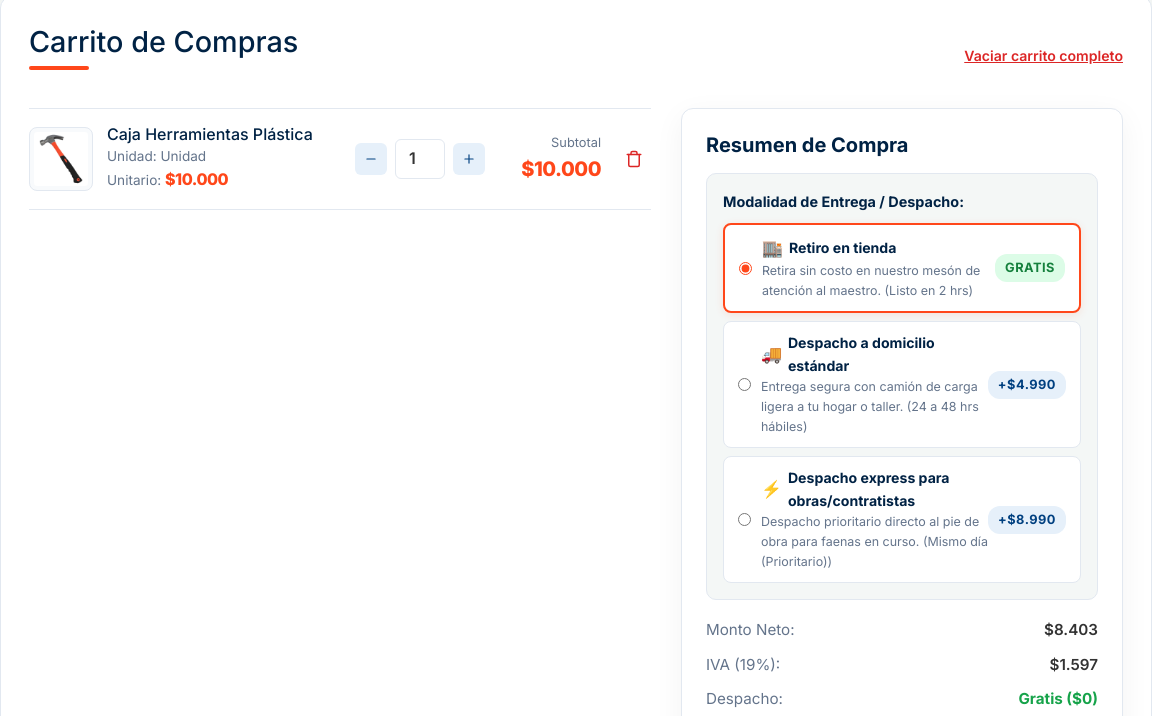
Test: Nuevas Funcionalidades: Control de Stock, Calculadora de Materiales y Despacho › debe actualizar el total a pagar en tiempo real al seleccionar despacho estándar o express
This screenshot has width=1152, height=716.
Check: the heading "Resumen de Compra" is shown, box [706,132,908,156]
Check: the text "$10.000" next to "Unitario:" is shown, box [165,170,228,190]
Click the text "Despacho a domicilio estándar".
click(861, 354)  # box [788,334,935,374]
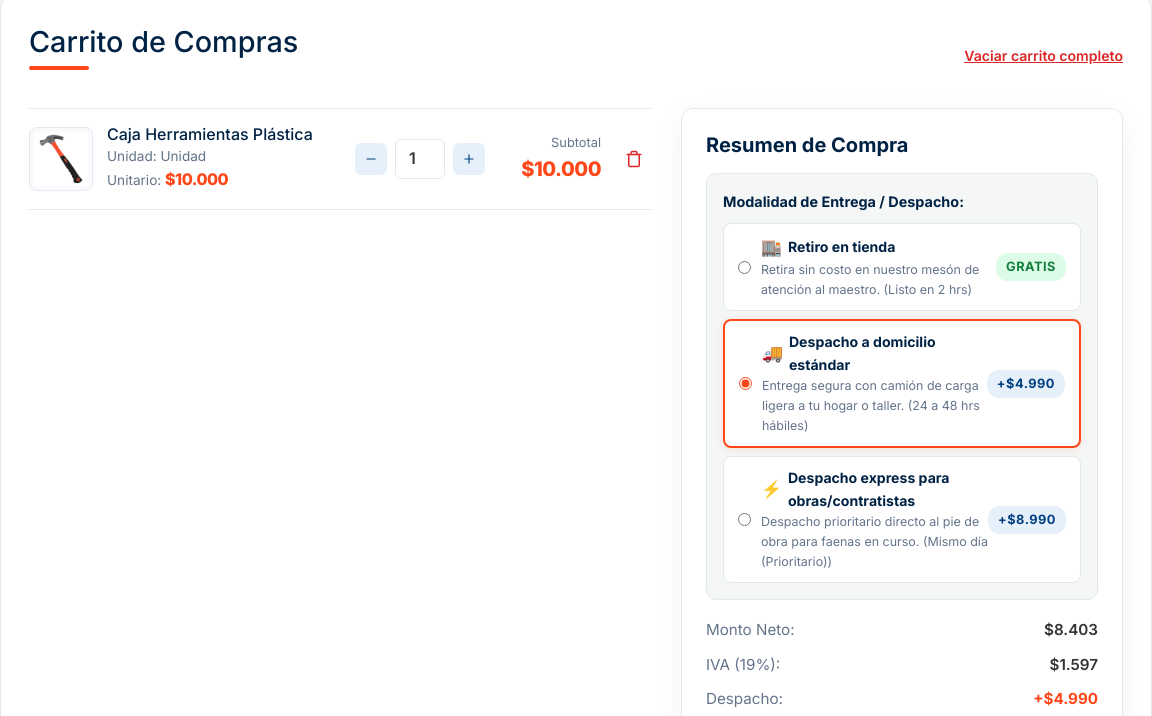
Click the text "Despacho express para obras/contratistas".
click(869, 489)  # box [788,469,950,509]
(page scrolled)
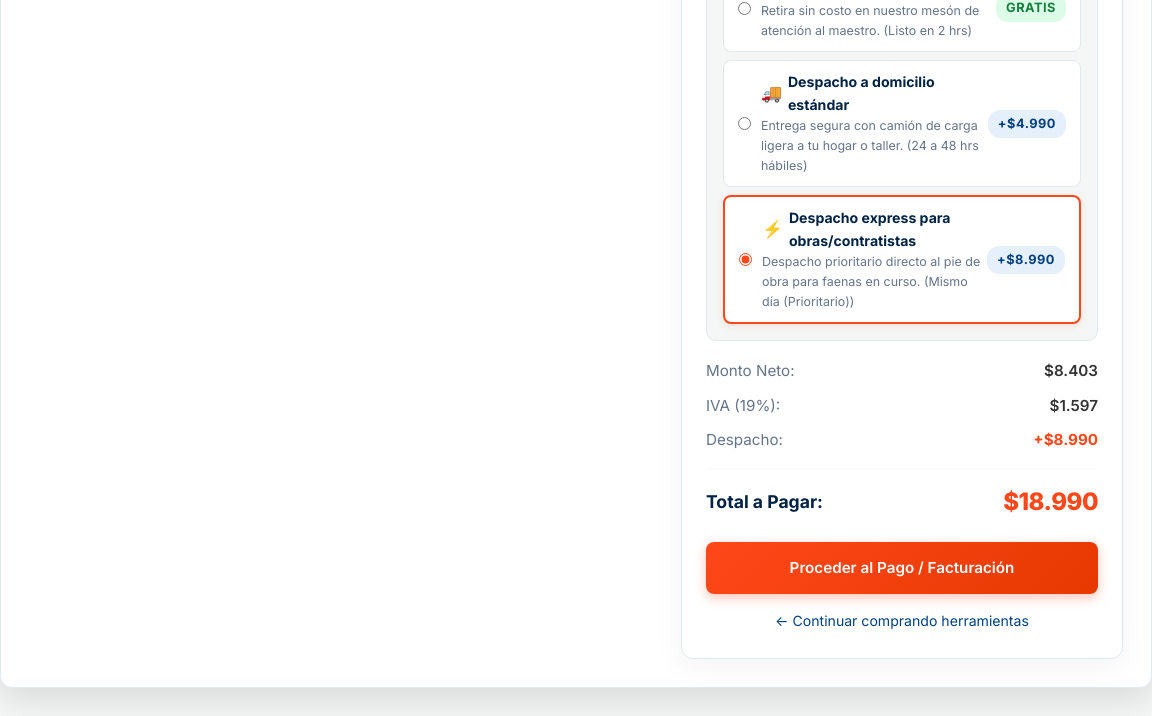
Check: the text "$18.990" is shown, box [1003,483,1098,522]
